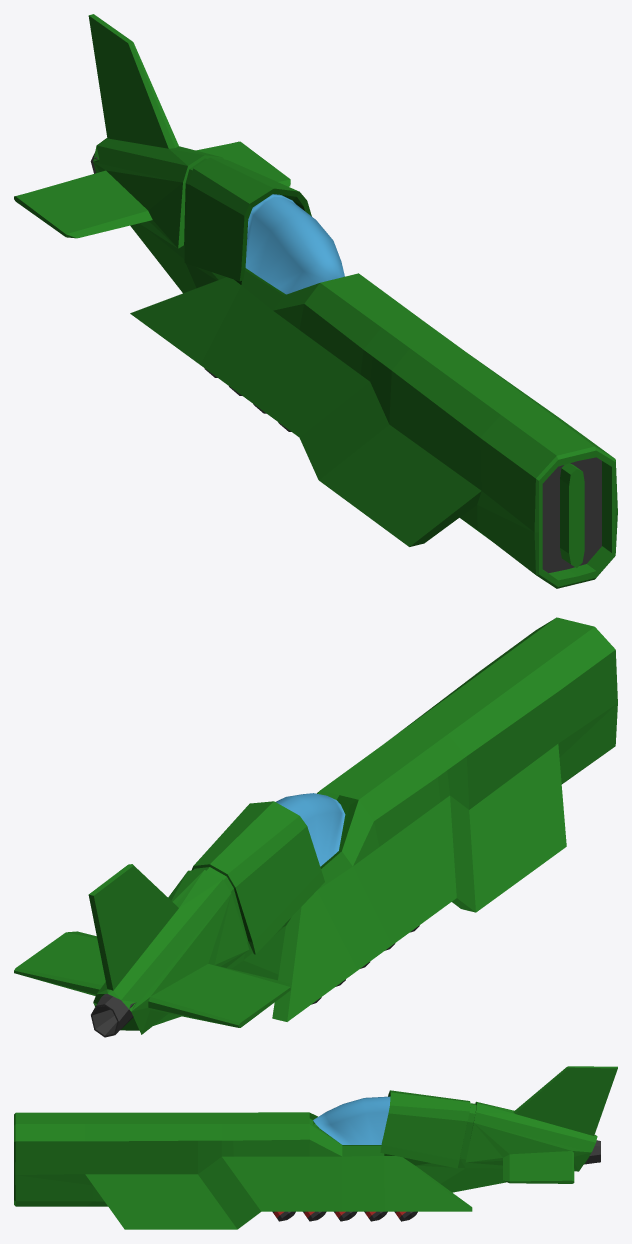
Rendered from spitfireMkX 1.fbx.
3 renders of one model, top to bottom at view 1: azimuth 30°, elevation 25°; view 2: azimuth 150°, elevation 25°; view 3: azimuth 270°, elevation 25°, orthographic. The views are drawn at different scales.
Visible parts, largest first — view 1: Spitfire; view 2: Spitfire; view 3: Spitfire.
Part boxes in pixels (bbox=[...]): Spitfire: bbox=[14, 14, 617, 588]; Spitfire: bbox=[14, 617, 617, 1037]; Spitfire: bbox=[14, 1066, 617, 1229].
Bounding box in the file's own units: 709 × 689 × 2655.
